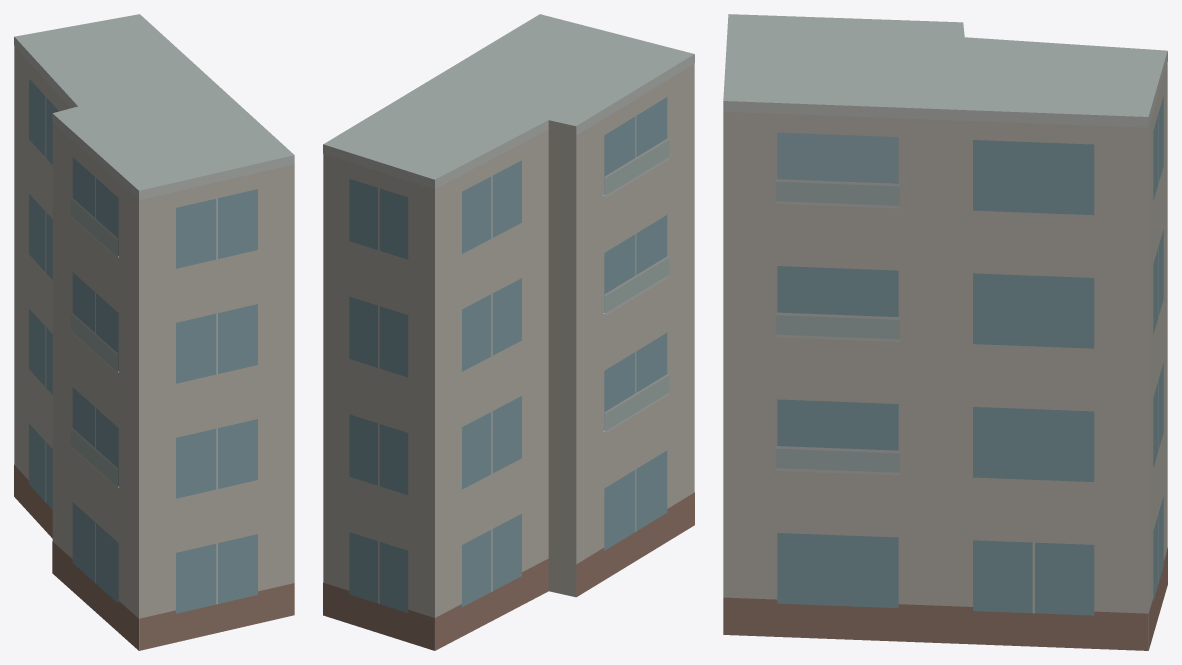
The model's file is survey-upis-32753477.glb.
3 renders of one model, left to right at view 1: azimuth 30°, elevation 25°; view 2: azimuth 150°, elevation 25°; view 3: azimuth 270°, elevation 25°, orthographic. The views are drawn at different scales.
Parts seen in each view (by area): view 1: survey-upis-32753477.tmp; view 2: survey-upis-32753477.tmp; view 3: survey-upis-32753477.tmp.
Part boxes in pixels (bbox=[...]): survey-upis-32753477.tmp: bbox=[14, 14, 294, 650]; survey-upis-32753477.tmp: bbox=[323, 14, 694, 650]; survey-upis-32753477.tmp: bbox=[723, 14, 1167, 650].
Size of the model in its own units: 5.06 by 12.2 by 9.22.
